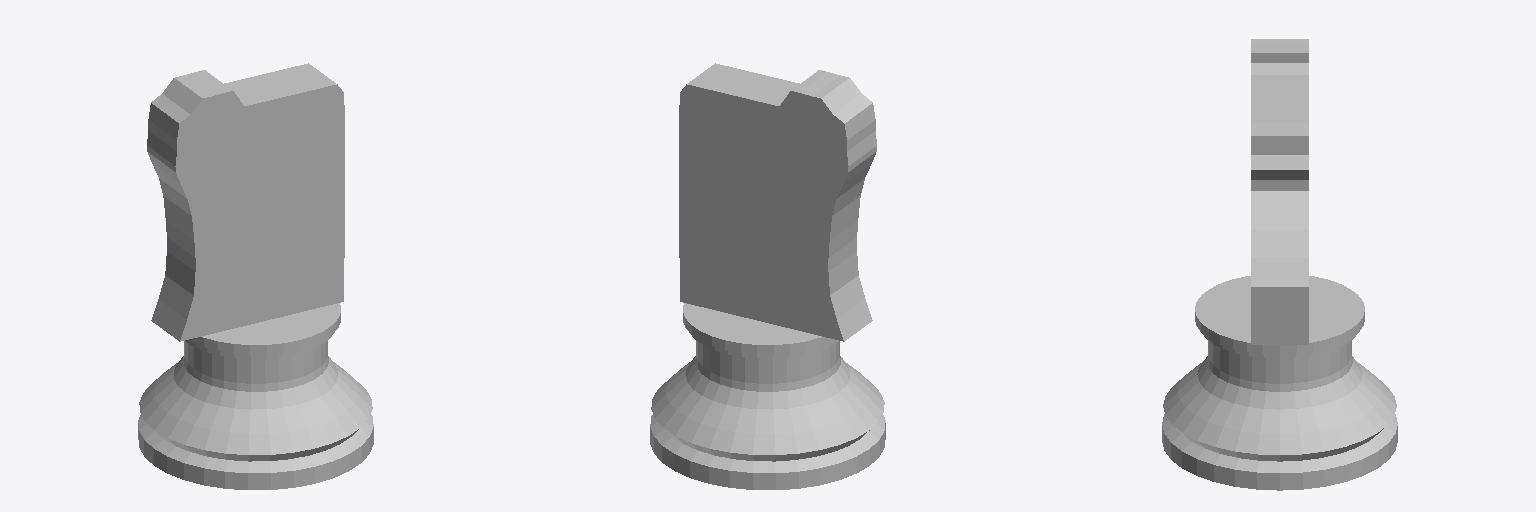
The model's file is knight.obj.
3 views of the same model, side by side, from view 1: azimuth 30°, elevation 25°; view 2: azimuth 150°, elevation 25°; view 3: azimuth 270°, elevation 25° (orthographic).
Parts seen in each view (by area): view 1: Cylinder; view 2: Cylinder; view 3: Cylinder.
Boxes of the visible parts, x1,y1,x2,y2 form: Cylinder: [138, 63, 373, 489]; Cylinder: [650, 63, 885, 489]; Cylinder: [1162, 39, 1397, 490].
Bounding box in the file's own units: 2.88 × 4.98 × 2.88.